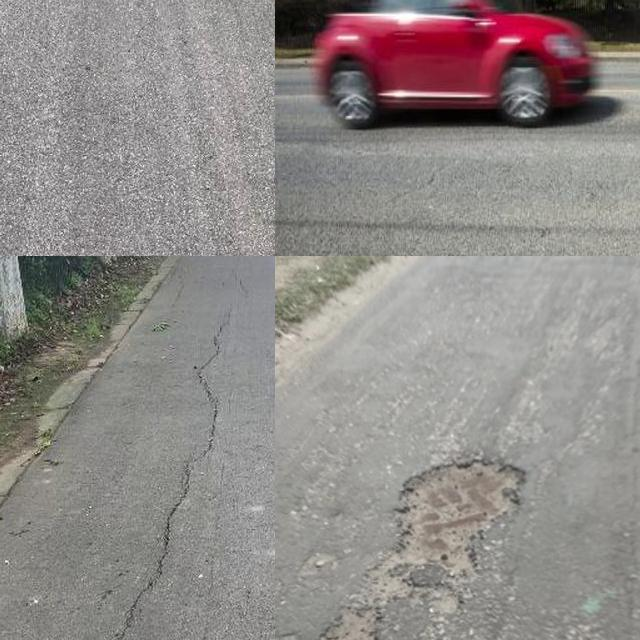Lubang: (315, 461, 523, 640)
Memanjang: (94, 282, 256, 640)
